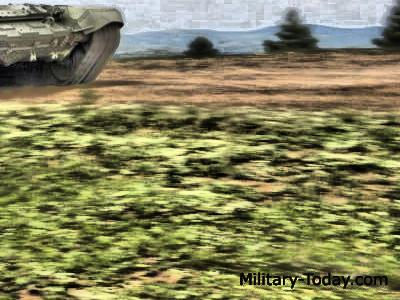tanks: (1, 4, 124, 85)
